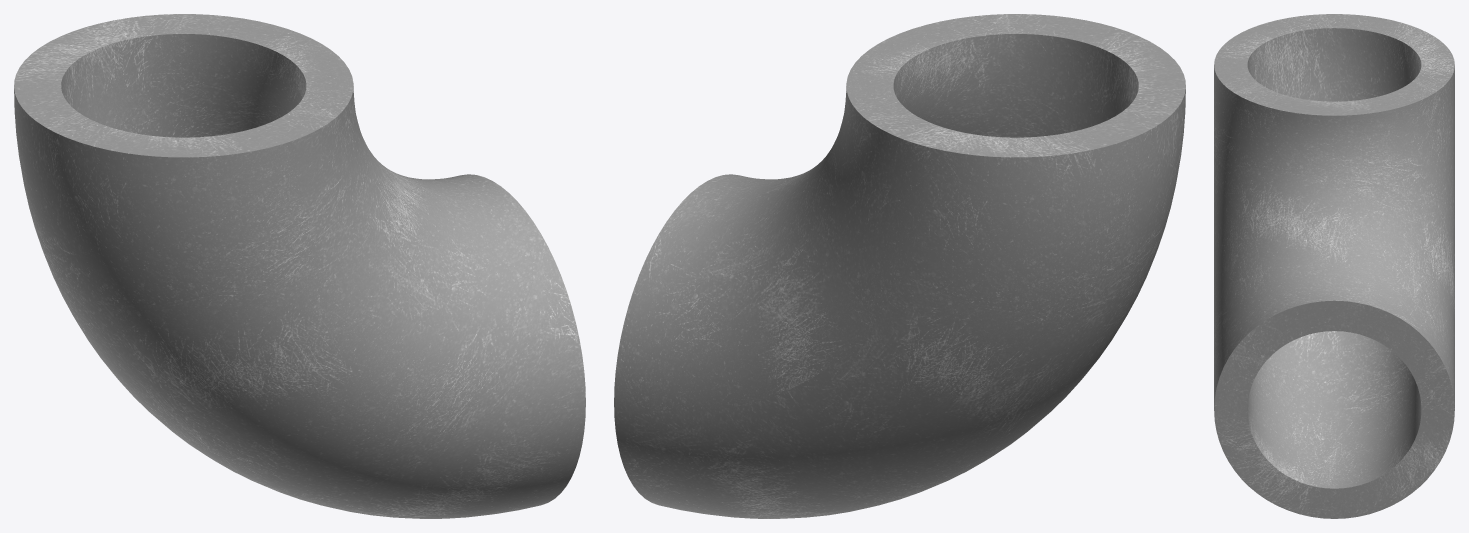
File: Bent Pipe.fbx
3 renders of one model, left to right at view 1: azimuth 30°, elevation 25°; view 2: azimuth 150°, elevation 25°; view 3: azimuth 270°, elevation 25°, orthographic. The views are drawn at different scales.
Parts seen in each view (by area): view 1: BentPipe; view 2: BentPipe; view 3: BentPipe.
Part boxes in pixels (x1,y1,x2,y2): BentPipe: (14, 14, 585, 518); BentPipe: (614, 14, 1185, 518); BentPipe: (1214, 14, 1454, 518).
Size of the model in its own units: 103 by 103 by 65.
1 material, 1 textured.
